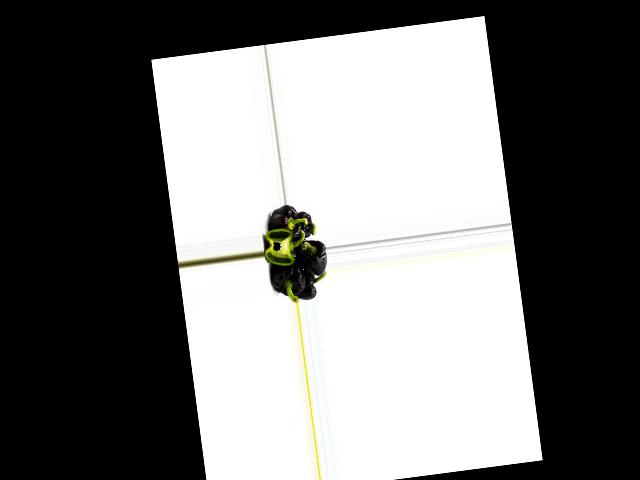bell_pepper: (268, 204, 303, 247)
